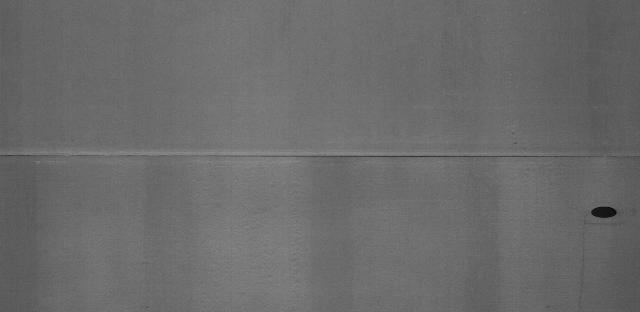punching_hole: (582, 200, 626, 223)
welding_line: (3, 144, 640, 175)
